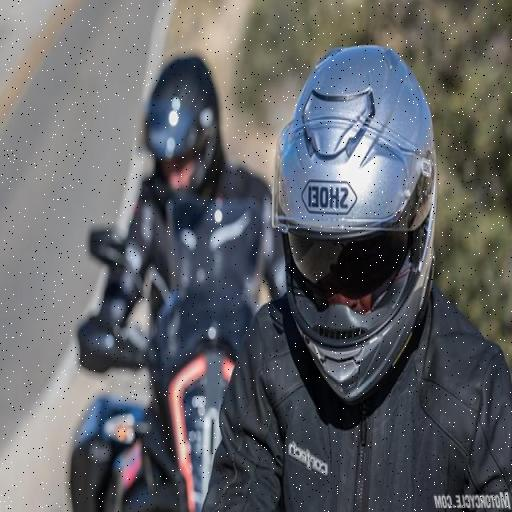Helmet: (273, 46, 436, 402), (146, 56, 223, 192)
